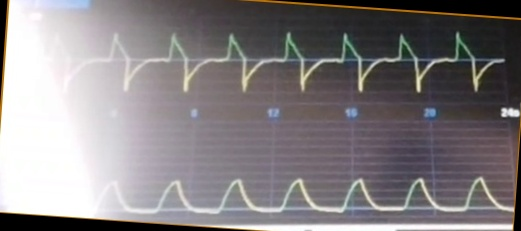Normal Flow: (40, 24, 504, 101)
Normal Volume: (72, 153, 514, 215)
